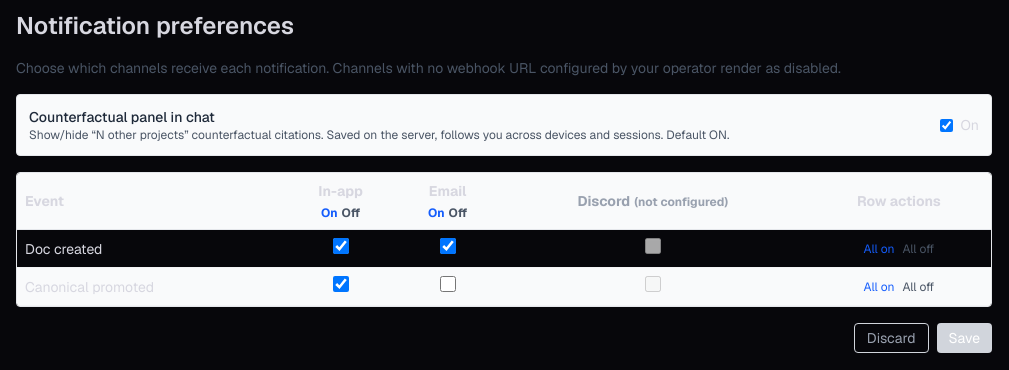
Test: NotificationPreferencesGrid › flips a single cell and marks the grid dirty
Check: the button with test id "notif-pref-save" is disabled, box [936,323,992,353]
Click the checkbox with test id "notif-pref-cell-kb_canonical_promoted-in_app-toggle" at [341, 284], box [333,276,349,292]
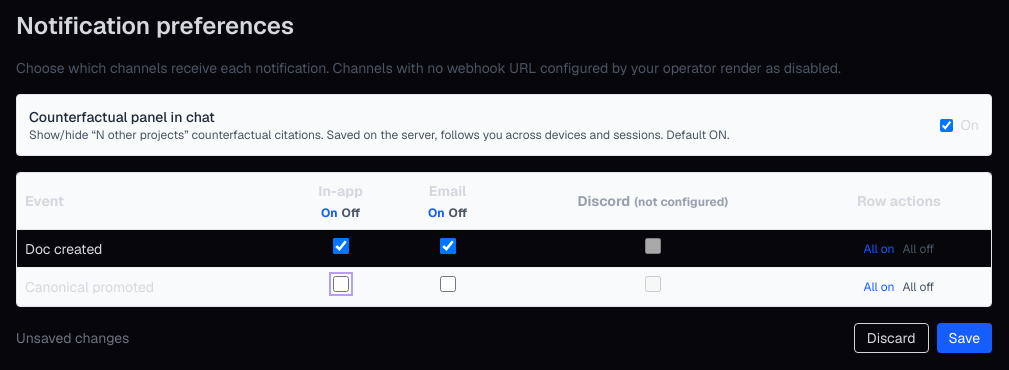
Check: the checkbox with test id "notif-pref-cell-kb_canonical_promoted-in_app-toggle" is not checked, box [333,276,349,292]
Check: the text "Unsaved changes" is shown, box [16,329,129,347]
Check: the button with test id "notif-pref-save" is enabled, box [936,323,992,353]
